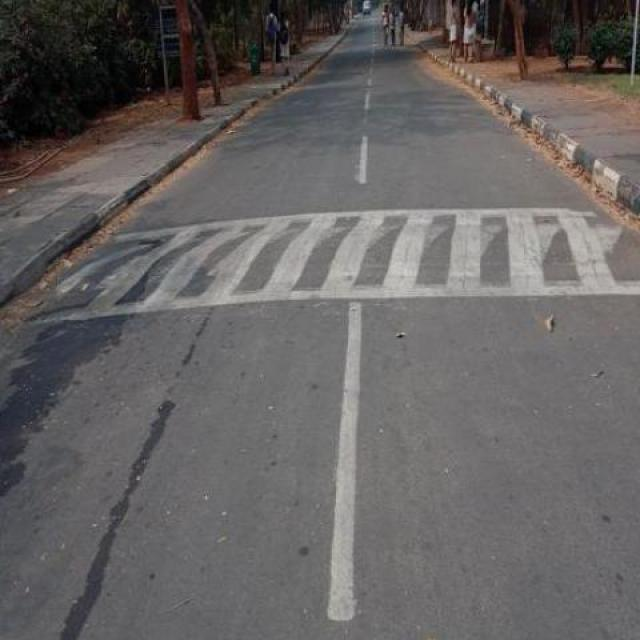Speed Bump: (12, 206, 639, 324)
